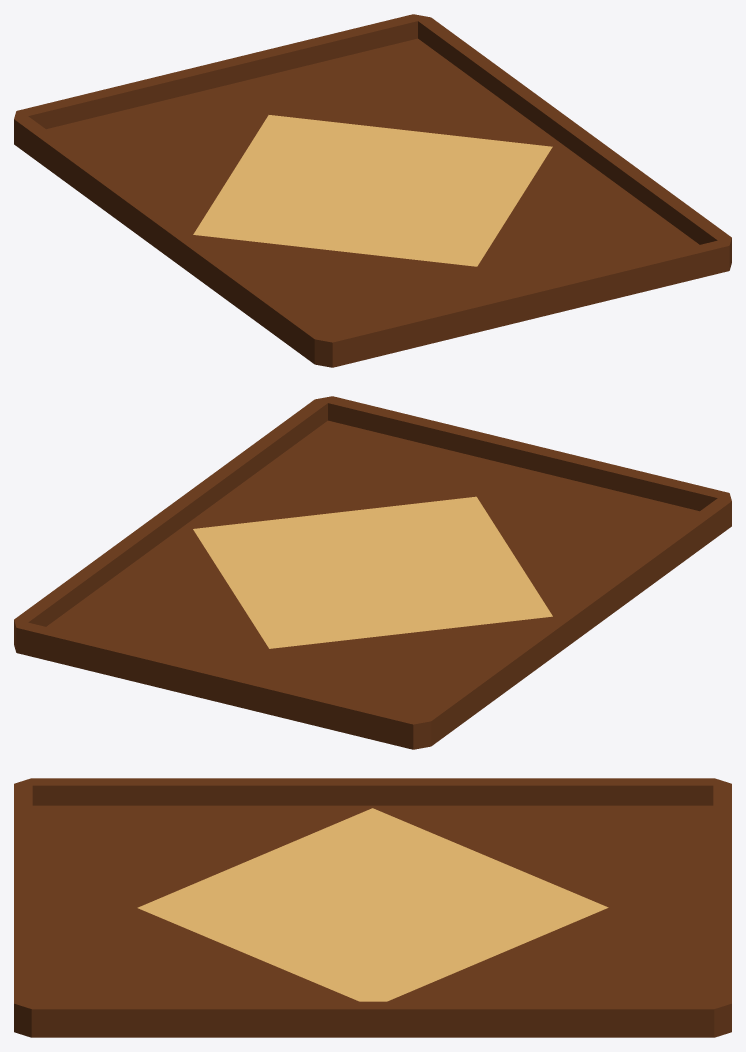
The model's file is ServeTray.fbx.
3 views of the same model, one above another, from view 1: azimuth 30°, elevation 25°; view 2: azimuth 150°, elevation 25°; view 3: azimuth 270°, elevation 25° (orthographic). The views are drawn at different scales.
Visible parts, largest first — view 1: Plane; view 2: Plane; view 3: Plane.
Part boxes in pixels (x1,y1,x2,y2): Plane: (14,14,731,367); Plane: (14,396,731,749); Plane: (14,778,731,1037).
Bounding box in the file's own units: 197 × 150 × 8.68.
